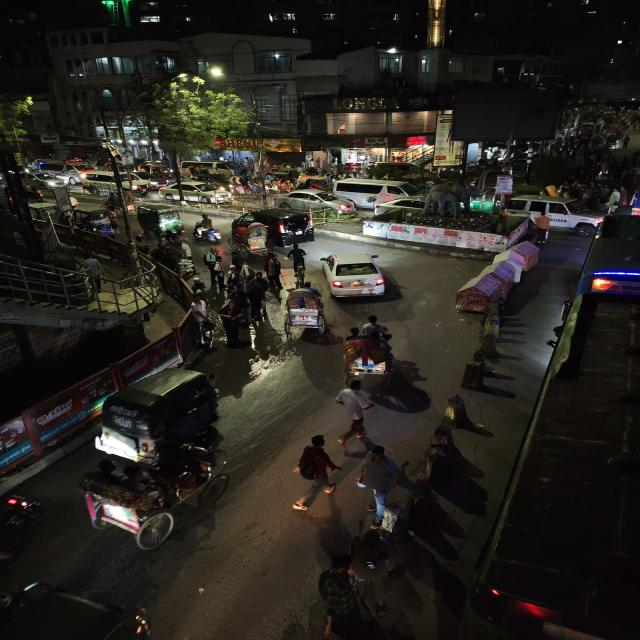bicycle: (286, 244, 310, 284)
car: (502, 193, 623, 231), (318, 250, 389, 300), (340, 180, 424, 208), (282, 188, 355, 214), (262, 212, 319, 244), (161, 181, 225, 205)
cng: (98, 368, 217, 460), (149, 206, 186, 236), (467, 190, 499, 213)
motorcycle: (190, 215, 228, 243)
pedestrian: (286, 430, 342, 515), (354, 444, 400, 523), (337, 378, 371, 447), (264, 253, 285, 287)
rickshaw: (72, 443, 228, 549), (338, 324, 398, 381), (280, 286, 332, 338), (231, 220, 274, 256)
